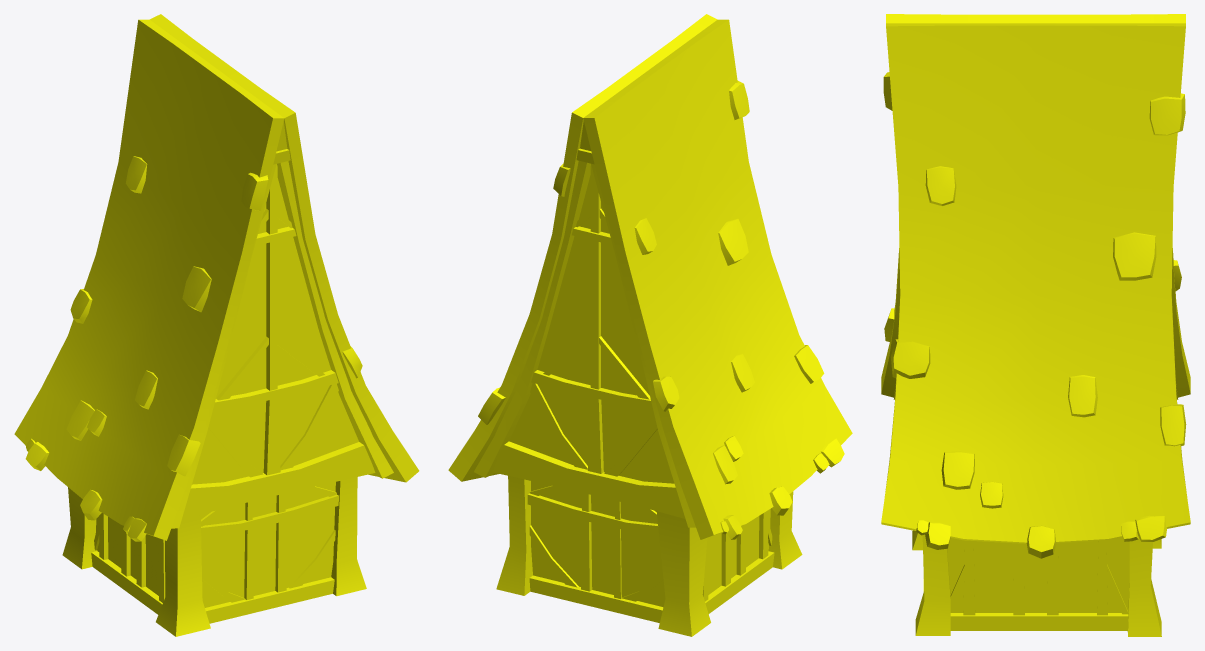
File: SM_BLD_body_v01_01.glb
The picture shows the model from 3 angles, left to right: view 1: azimuth 30°, elevation 25°; view 2: azimuth 150°, elevation 25°; view 3: azimuth 270°, elevation 25°; orthographic projection. The views are drawn at different scales.
Visible parts, largest first — view 1: SM_BLD_body_v01_01; view 2: SM_BLD_body_v01_01; view 3: SM_BLD_body_v01_01.
Part boxes in pixels (<box>): SM_BLD_body_v01_01: <box>14,14,419,636</box>; SM_BLD_body_v01_01: <box>448,14,852,636</box>; SM_BLD_body_v01_01: <box>881,14,1190,636</box>.
Size of the model in its own units: 8.21 by 14.28 by 7.11.
4 materials, 4 textured.
